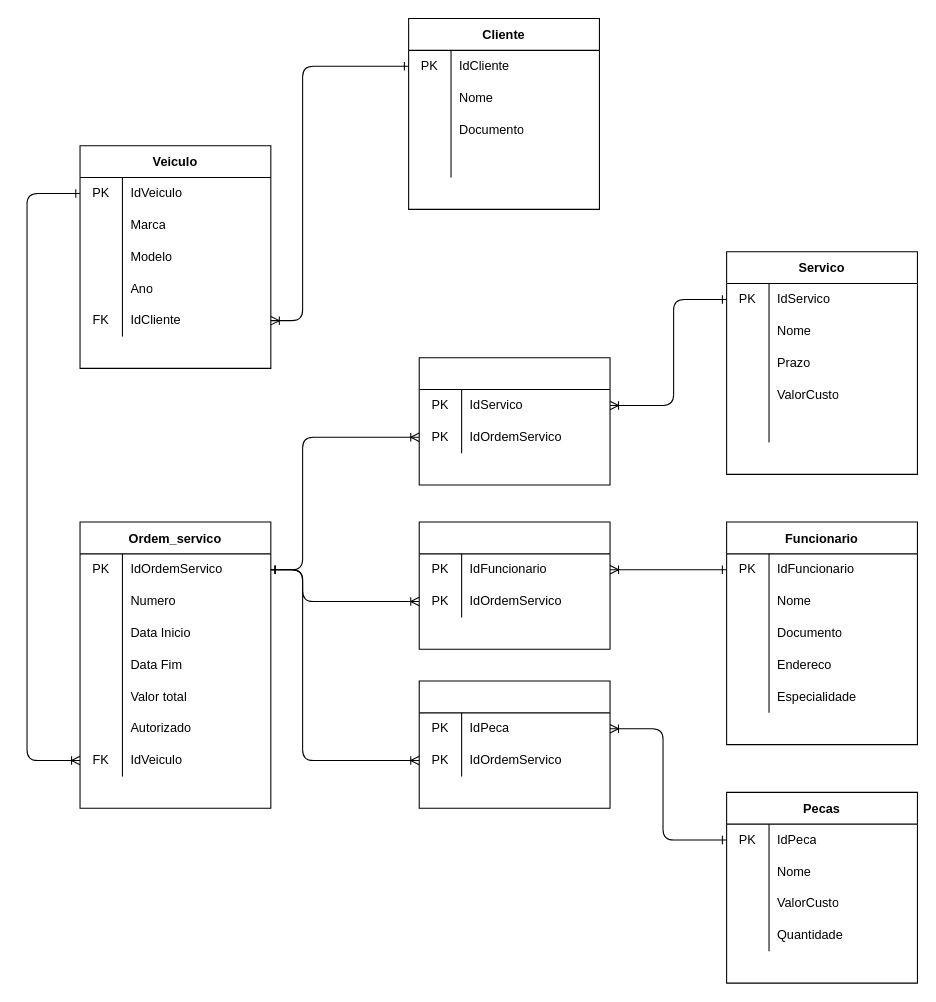
This 936x1002 diagram has some shape labels left out. Here are the shapes that lost their labels. From the top down, the box of each, then its label:
(418, 357, 610, 485): Servico_realizado
(418, 521, 610, 649): Equipe
(418, 680, 610, 808): Pecas_utilizadas
